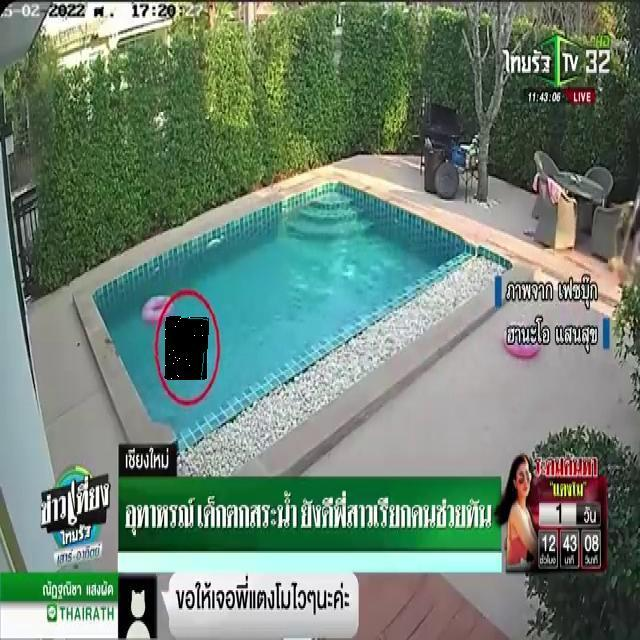Out of Water: (165, 316, 208, 380)
